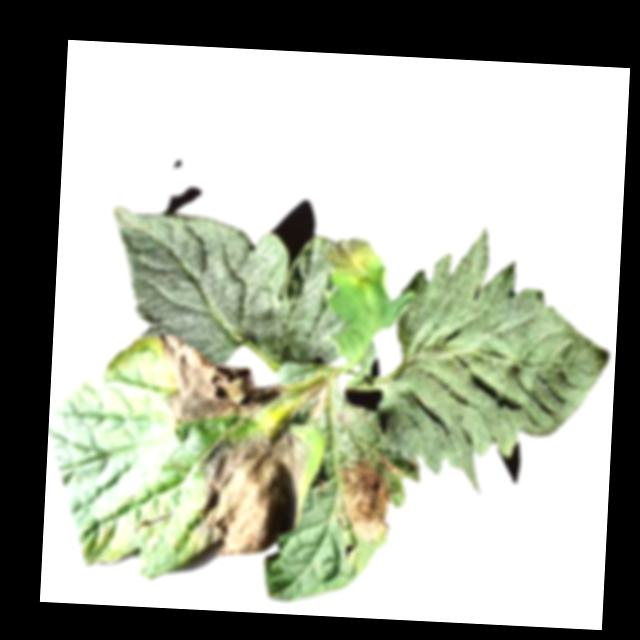Late_blight: (192, 424, 315, 560), (166, 332, 292, 429), (335, 456, 394, 547), (321, 234, 378, 284), (308, 380, 330, 419)
healthy: (374, 223, 617, 485), (105, 204, 335, 371)
